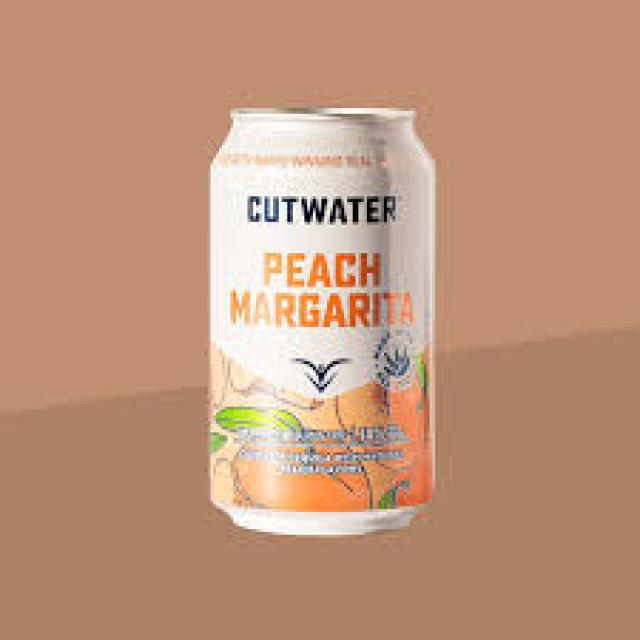Cans: (193, 91, 452, 546)
